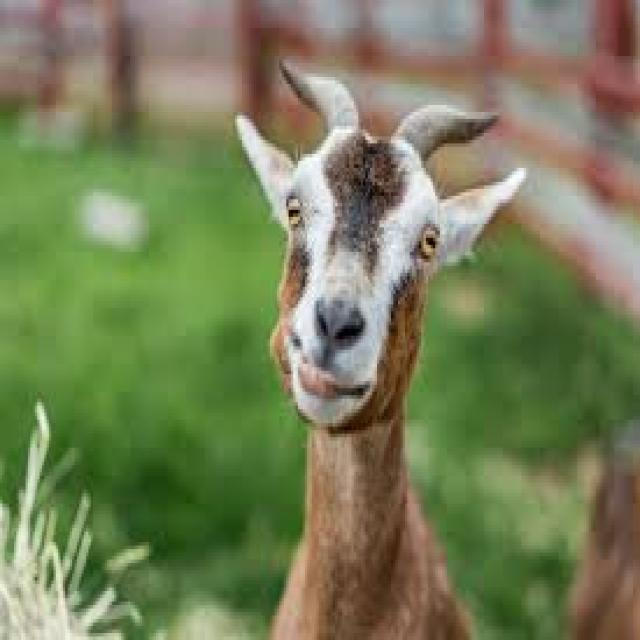Goat: (232, 55, 486, 640)
